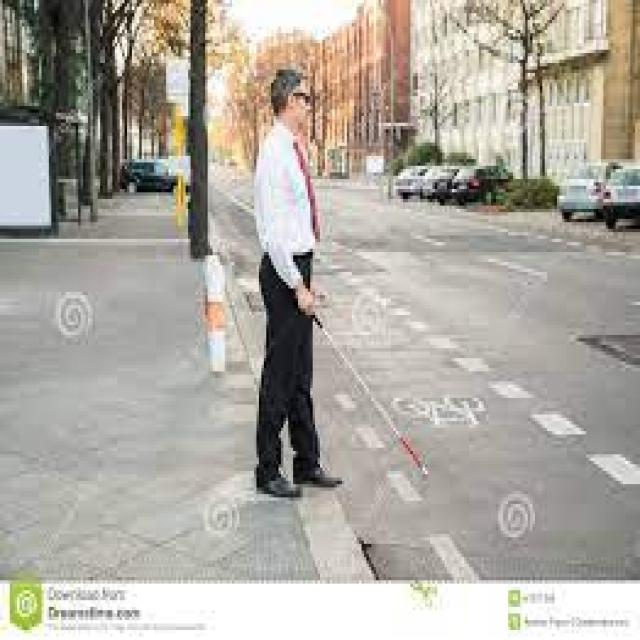Pedestrians: (234, 70, 352, 494)
